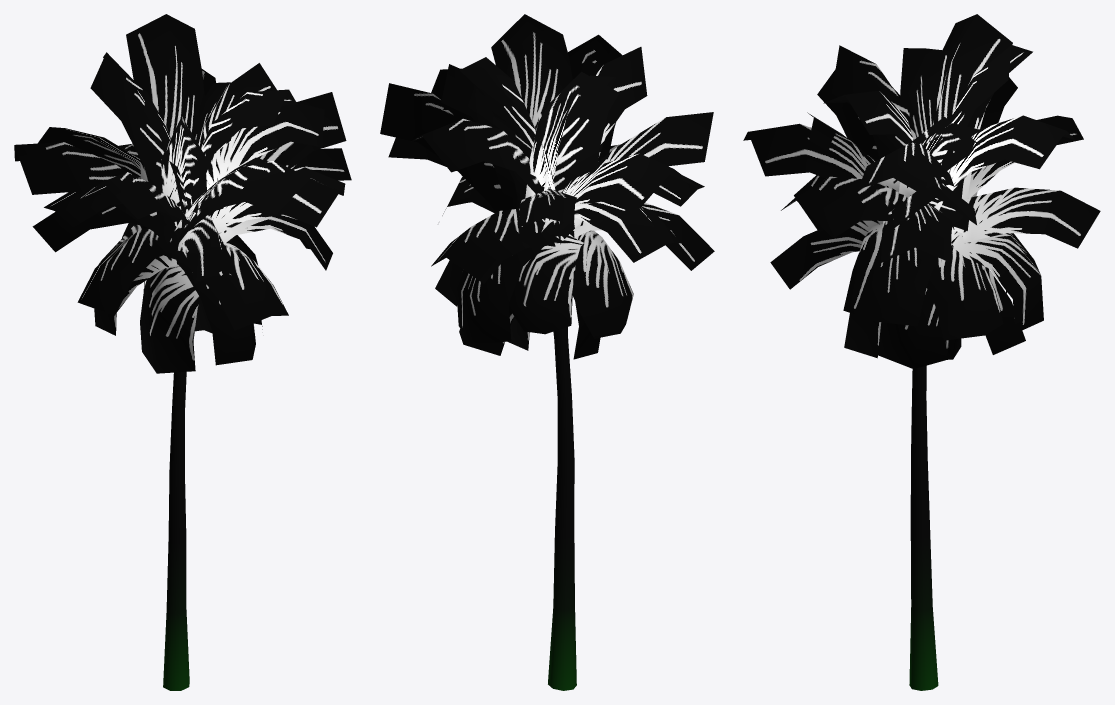
File: P_DesertCoconutPalm05.obj
3 renders of one model, left to right at view 1: azimuth 30°, elevation 25°; view 2: azimuth 150°, elevation 25°; view 3: azimuth 270°, elevation 25°, orthographic. The views are drawn at different scales.
Bounding box in the file's own units: 8.08 × 16.25 × 8.
